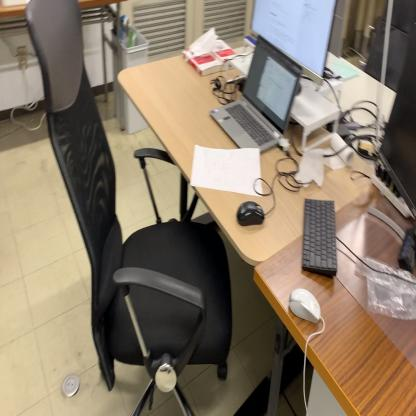chair: (23, 4, 234, 416)
